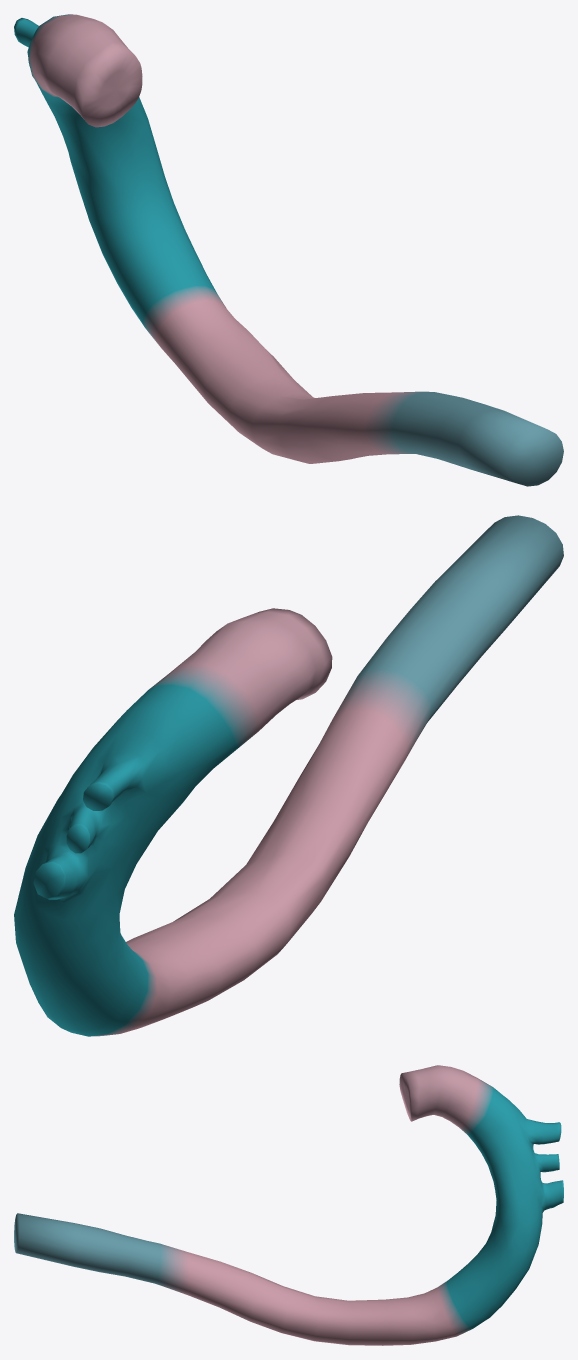
File: Aorta_Heart_inner.fbx
The picture shows the model from 3 angles, top to bottom: view 1: azimuth 30°, elevation 25°; view 2: azimuth 150°, elevation 25°; view 3: azimuth 270°, elevation 25°; orthographic projection. The views are drawn at different scales.
Visible parts, largest first — view 1: Aorta_Heart_inner; view 2: Aorta_Heart_inner; view 3: Aorta_Heart_inner.
Part boxes in pixels (left/top/right/bottom): Aorta_Heart_inner: left=14, top=14, right=563, bottom=486; Aorta_Heart_inner: left=14, top=515, right=563, bottom=1036; Aorta_Heart_inner: left=14, top=1065, right=563, bottom=1345.
Bounding box in the file's own units: 58.19 × 109 × 226.
